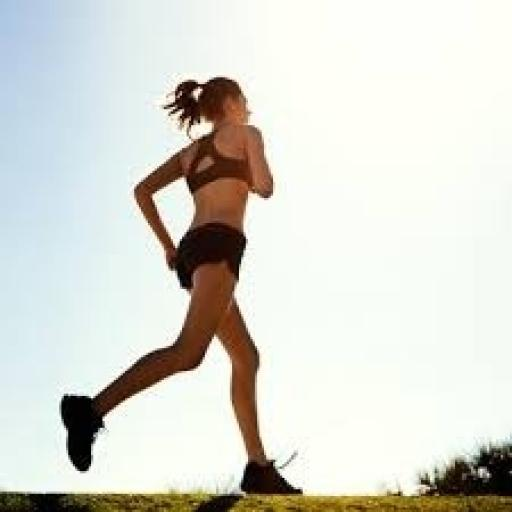running: (57, 73, 307, 498)
